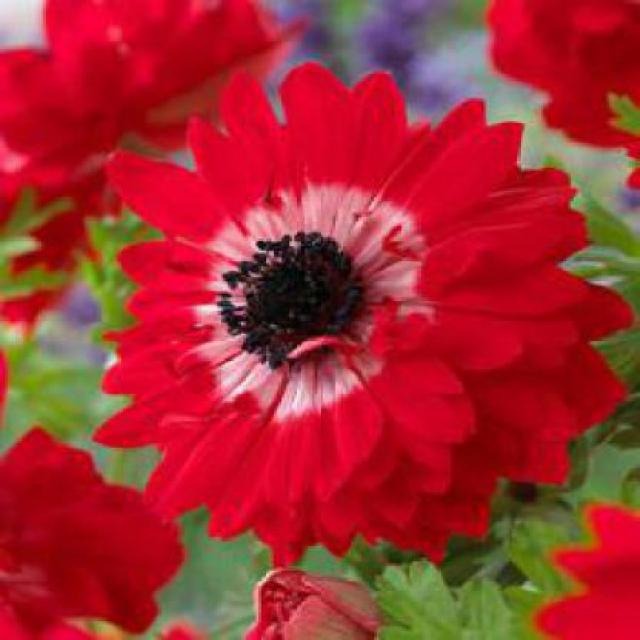Flower: (92, 61, 638, 573), (220, 233, 363, 372)
